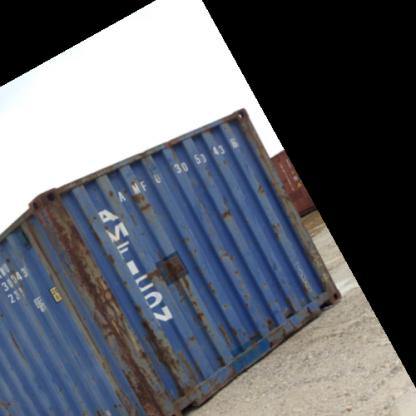Damage: (40, 202, 129, 402), (130, 298, 196, 408), (162, 253, 210, 328), (220, 242, 260, 310), (84, 212, 124, 263), (217, 320, 257, 370), (122, 175, 154, 213), (7, 320, 29, 360), (13, 219, 40, 250), (0, 250, 22, 288), (298, 274, 324, 306), (213, 195, 241, 223), (272, 292, 296, 320), (262, 212, 286, 238), (252, 171, 270, 202), (179, 225, 199, 251), (263, 312, 281, 334), (198, 162, 216, 183), (217, 150, 233, 172)
